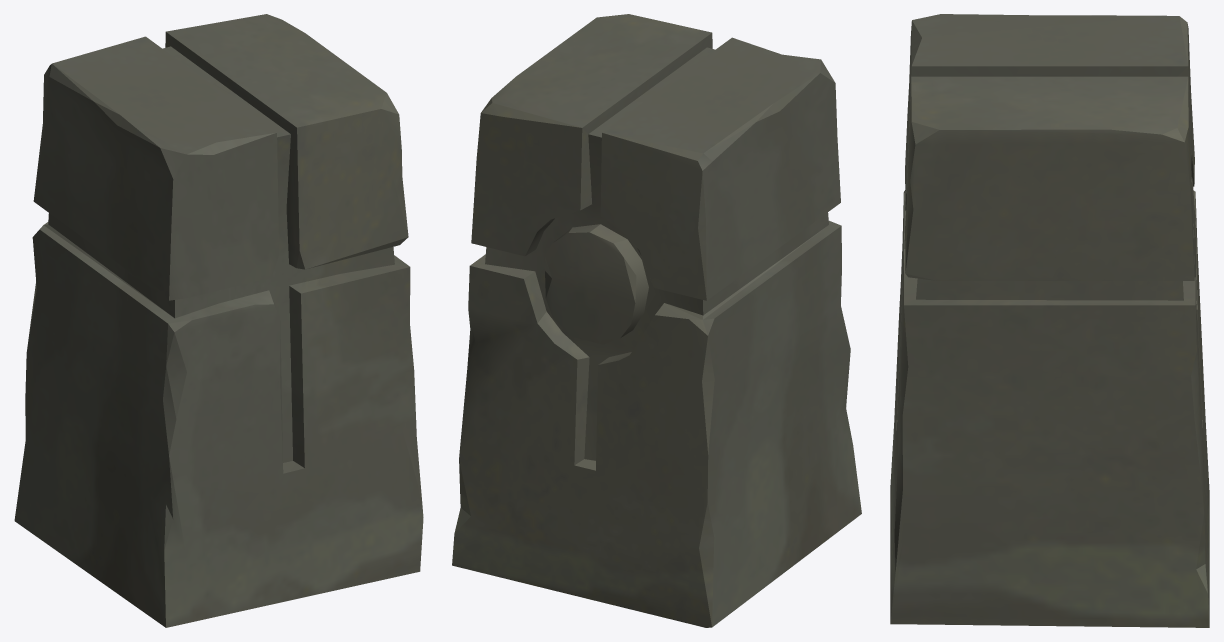
Rendered from PUZZLE_STONE.fbx.
3 views of the same model, side by side, from view 1: azimuth 30°, elevation 25°; view 2: azimuth 150°, elevation 25°; view 3: azimuth 270°, elevation 25° (orthographic). The views are drawn at different scales.
Parts seen in each view (by area): view 1: MeshBaker_mesh_mesh; view 2: MeshBaker_mesh_mesh; view 3: MeshBaker_mesh_mesh.
Boxes of the visible parts, <box> form: MeshBaker_mesh_mesh: <box>14,14,423,627</box>; MeshBaker_mesh_mesh: <box>452,14,861,627</box>; MeshBaker_mesh_mesh: <box>890,14,1209,627</box>.
Size of the model in its own units: 133 by 225 by 133.
1 material, 1 textured.
